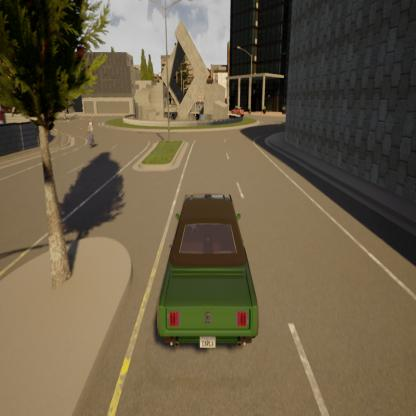Cars: (142, 184, 271, 366), (229, 103, 245, 118)
